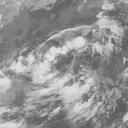cyclone: (14, 23, 112, 118)
